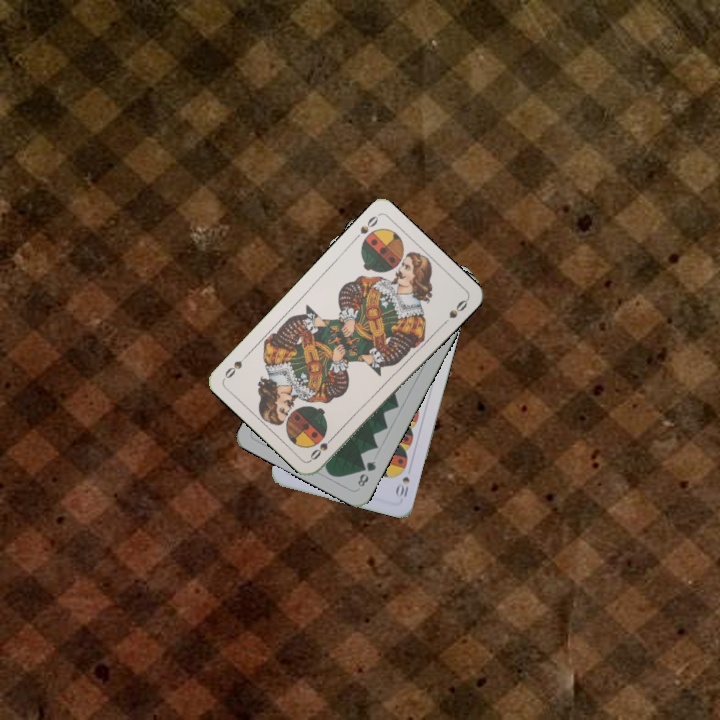G8: (353, 457, 379, 490)
S10: (393, 473, 412, 500)
SO: (306, 430, 339, 463), (349, 212, 381, 243)
